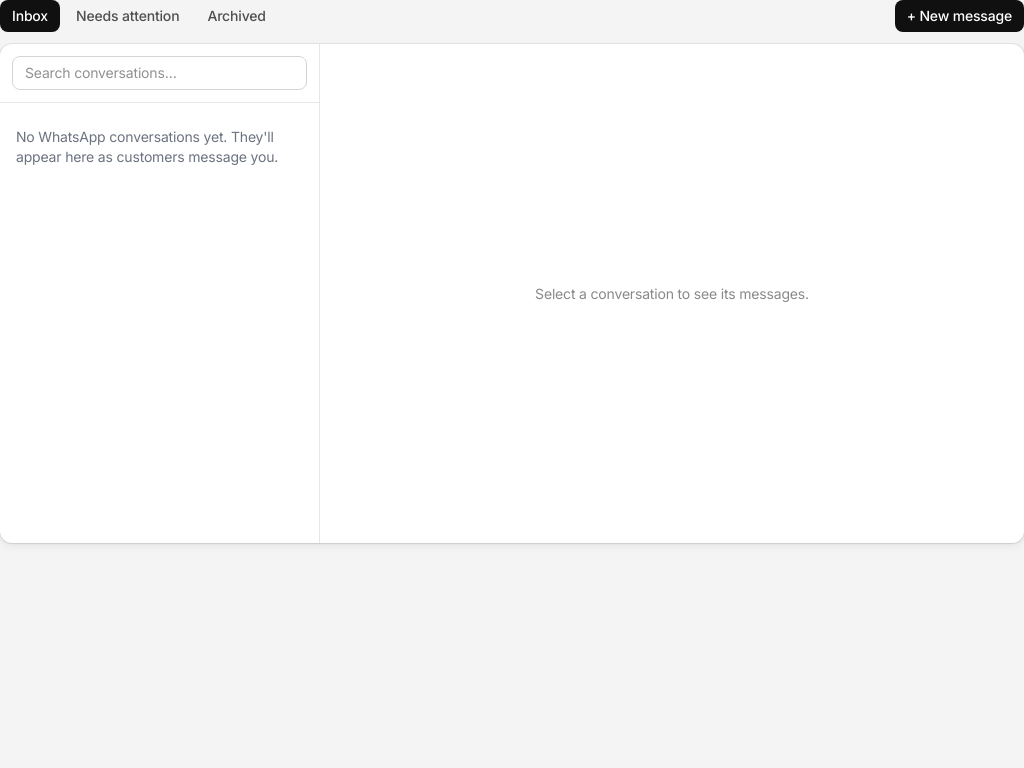
Test: WhatsAppInbox - new message › shows a real rejection instead of reporting the message as sent
The width and height of the screenshot is (1024, 768).
Click the button "+ New message" at (959, 16), box [895, 0, 1023, 32]
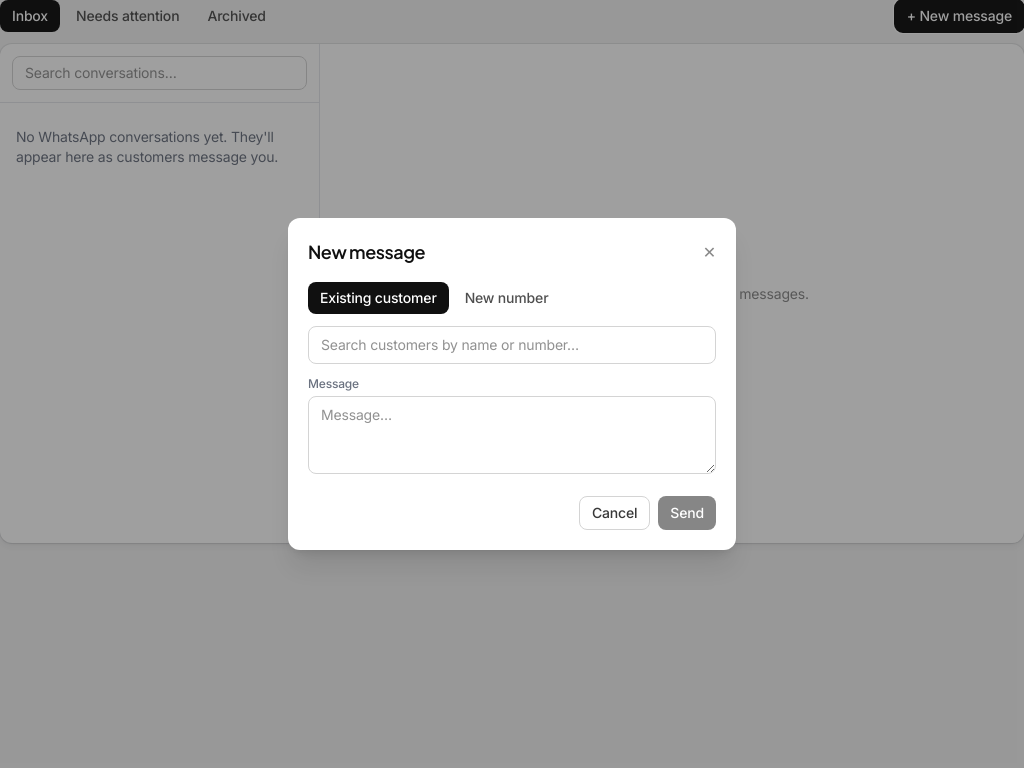
Click the button "New number" at (506, 298), box [453, 282, 560, 314]
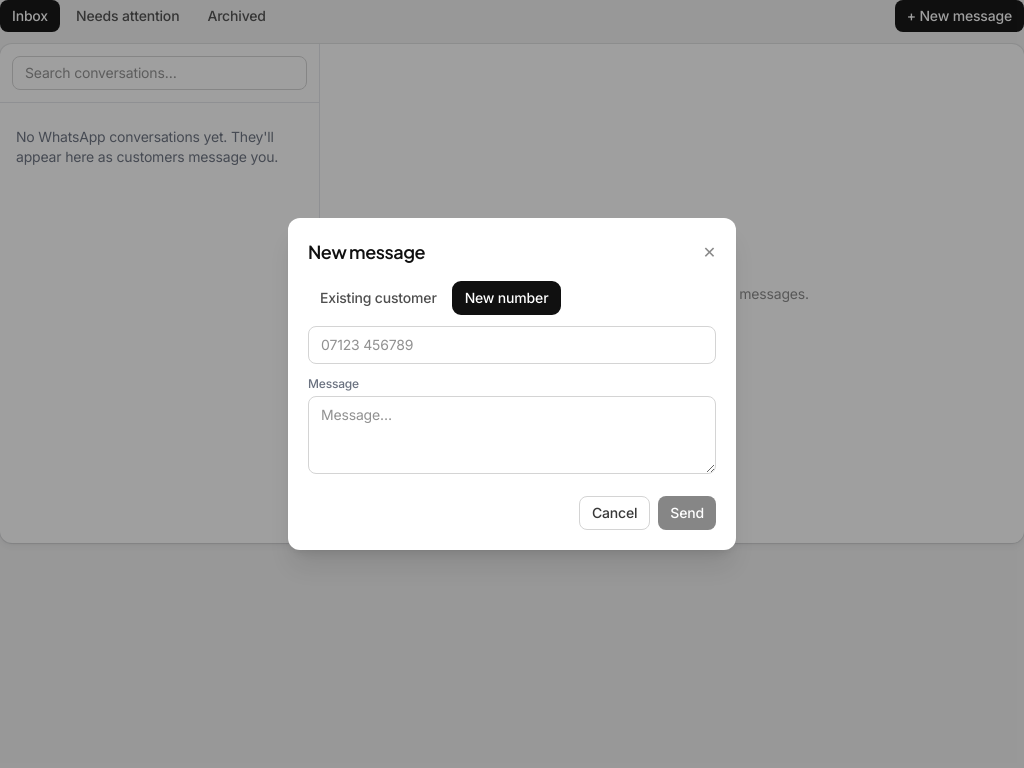
Type "07555111222" into the field with placeholder "07123 456789" at (512, 345), box [308, 326, 716, 364]
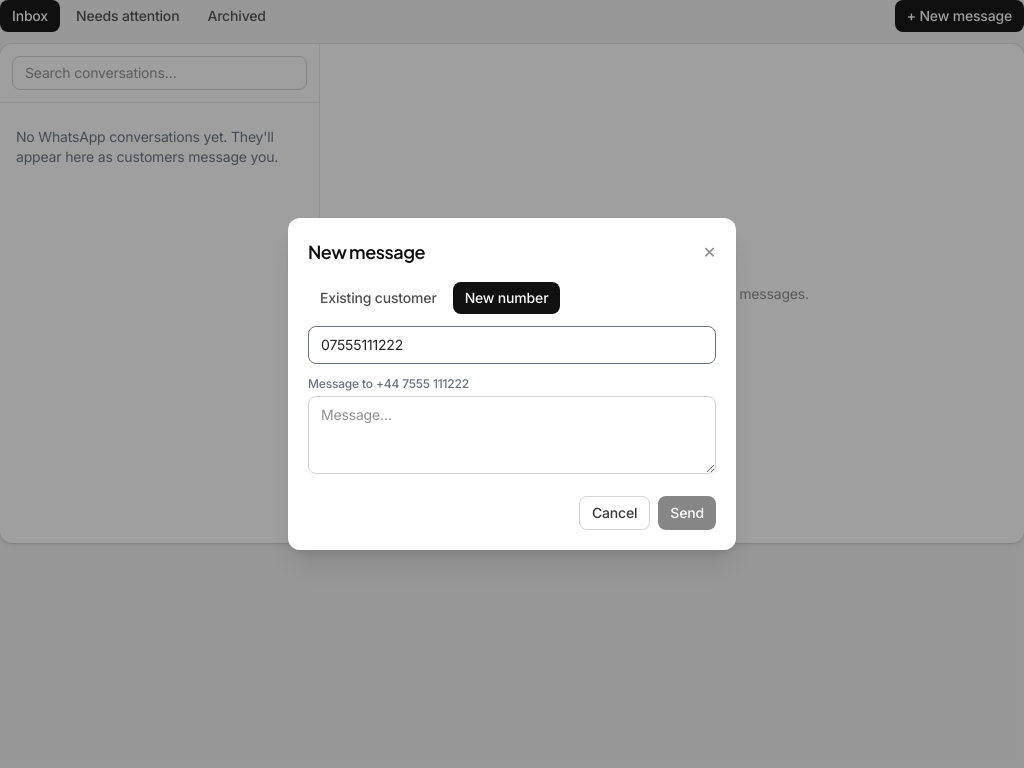
Type "late reply" into the text box with placeholder "Message…" at (512, 435), box [308, 396, 716, 474]
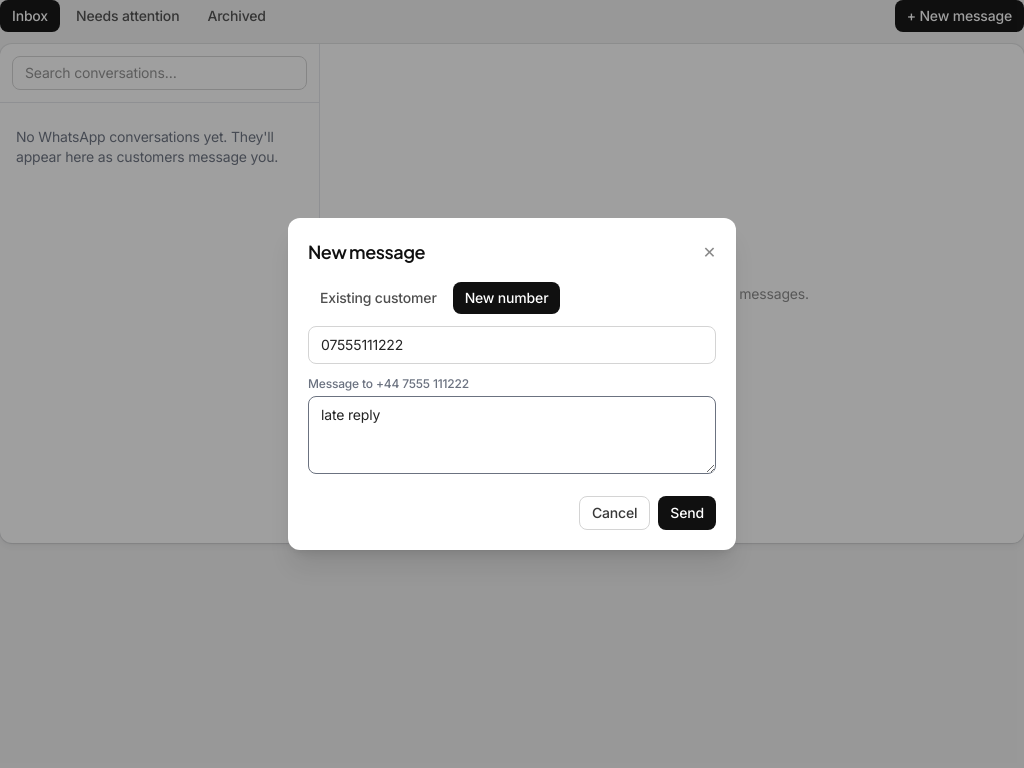
Click the button "Send" at (687, 513), box [658, 496, 716, 530]
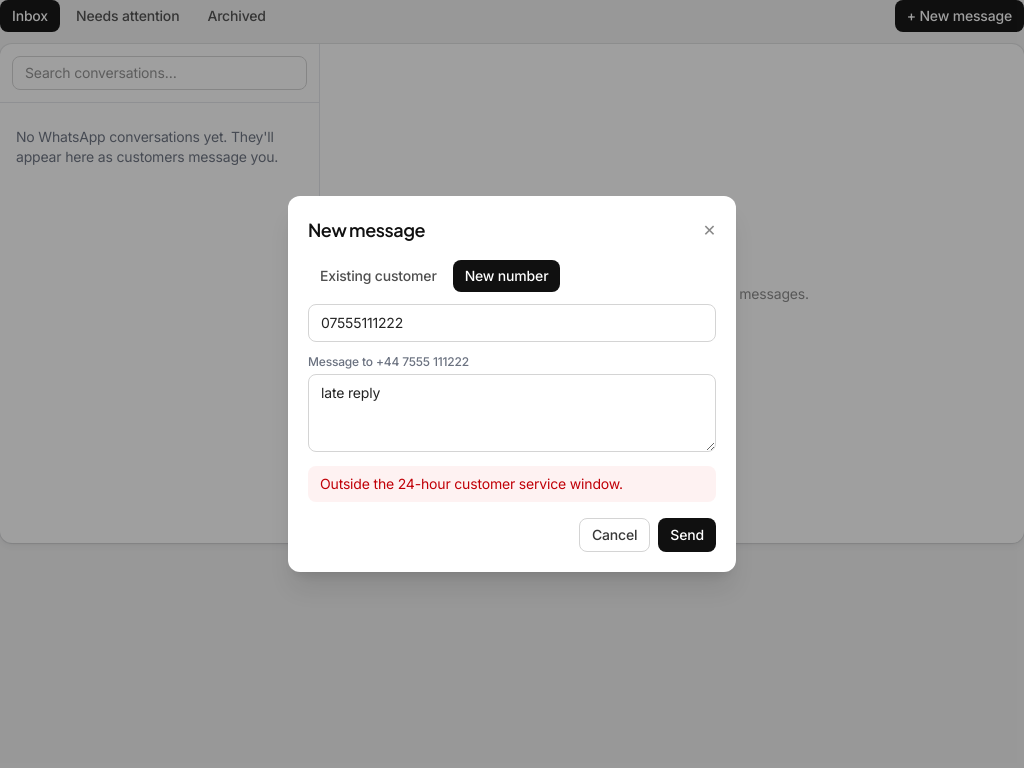
Result: the heading "New message" is shown at [308, 216, 425, 244]
Result: the text "Outside the 24-hour customer service window." is shown at [308, 466, 716, 502]
